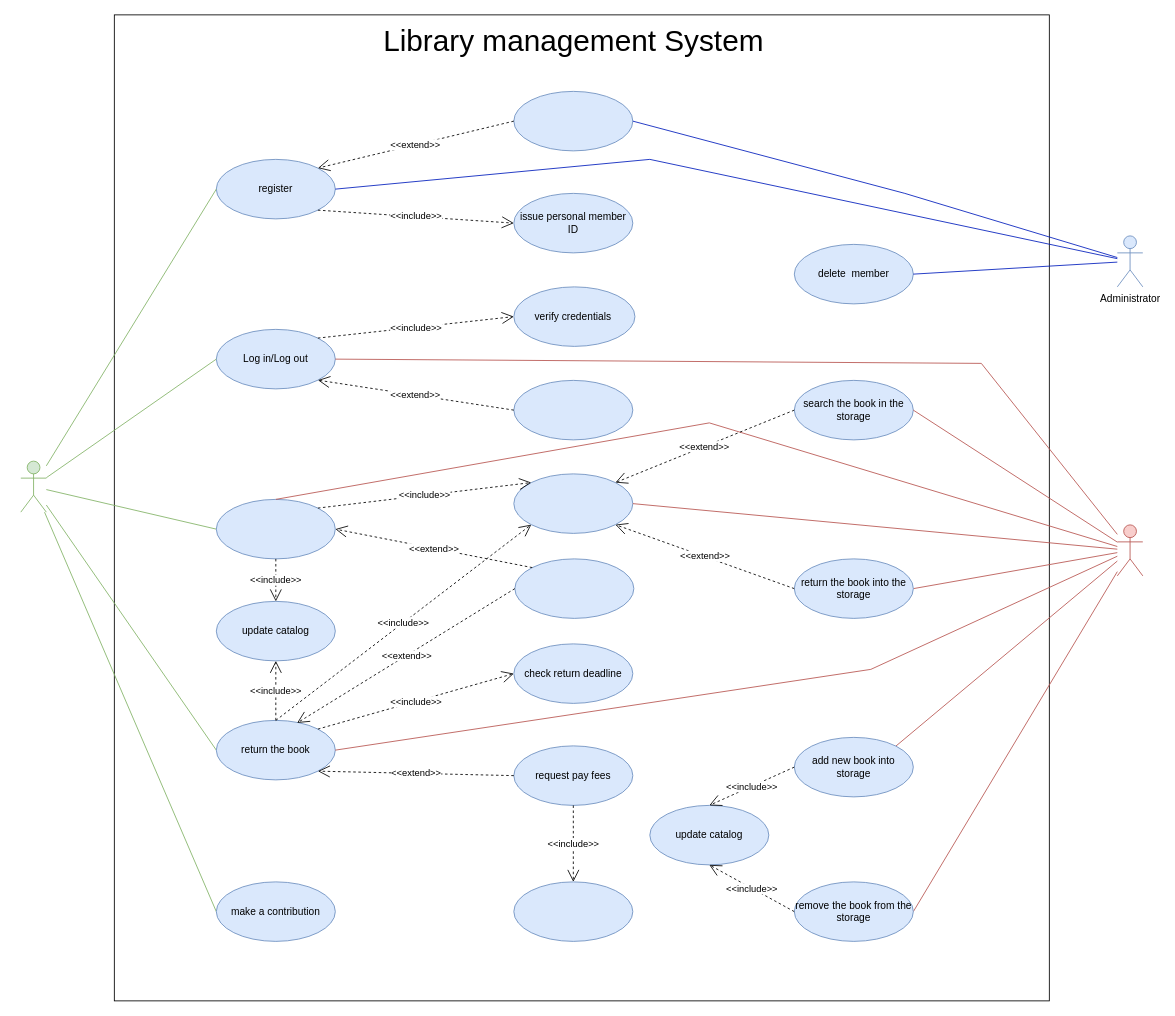
This 1175x1016 diagram has some shape labels left out. Here are the shapes that lost their labels. From the top down, the box of each, then its label:
(513, 91, 633, 151): update profile
(513, 380, 633, 440): display Error login
(20, 460, 46, 512): Member
(513, 473, 633, 533): search the book in the catalog
(215, 499, 335, 559): borrow the book
(1116, 524, 1143, 576): Librarian
(514, 558, 634, 618): display error search
(513, 881, 633, 941): bill issue
